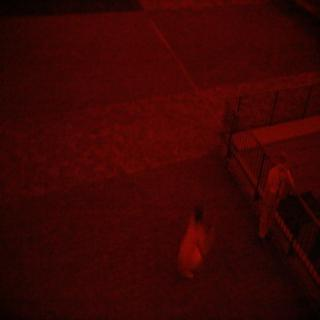person: (255, 149, 292, 246), (176, 199, 209, 282)
